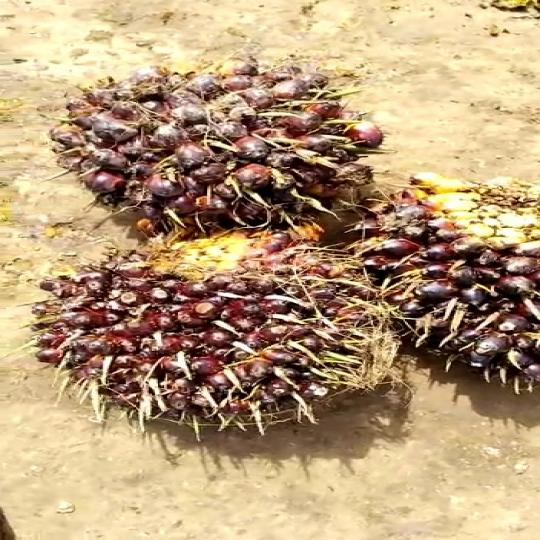kurang masak: (40, 229, 424, 439), (54, 60, 404, 225), (348, 178, 540, 395)
